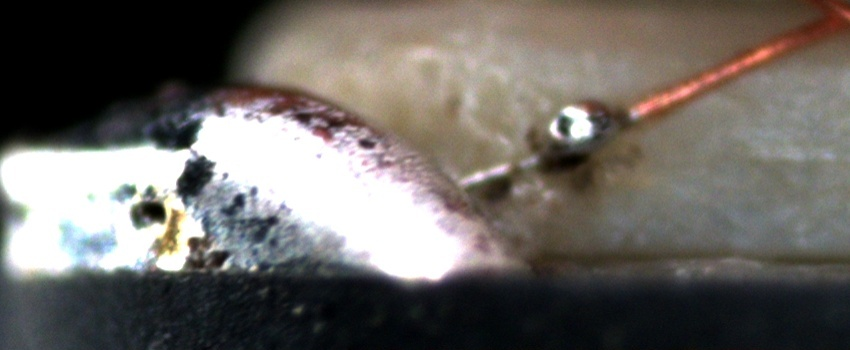DL: (496, 50, 850, 94), (747, 139, 850, 174)
TB: (544, 94, 628, 155)
TTCW: (441, 76, 691, 197)
